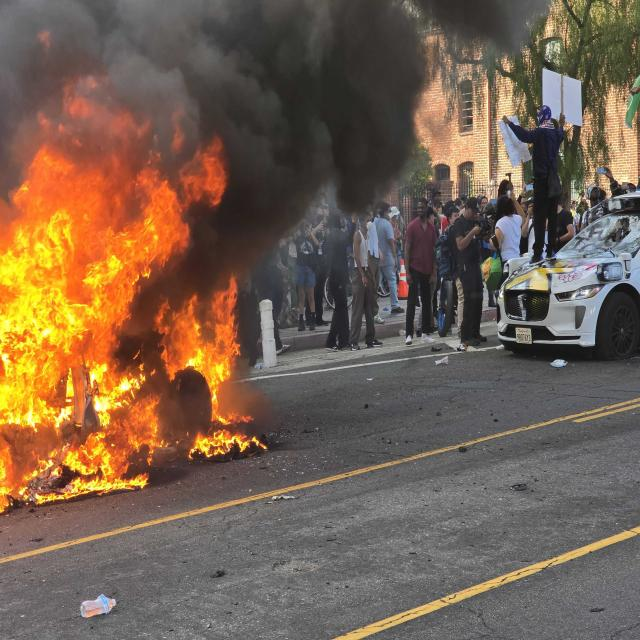fire: (0, 126, 189, 510), (190, 273, 266, 458), (40, 76, 150, 128), (180, 138, 227, 207)
